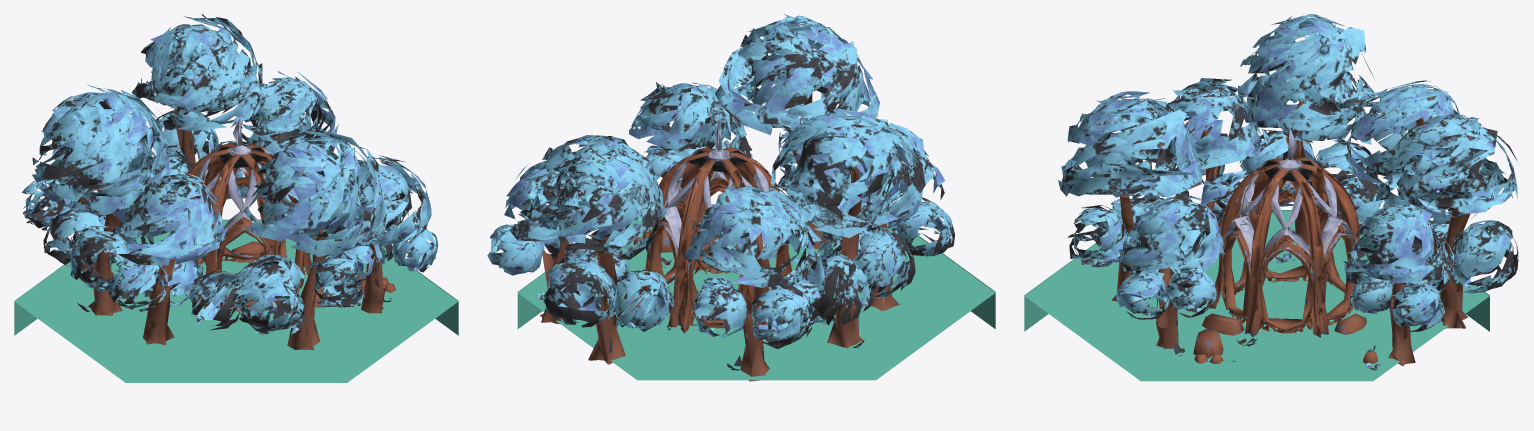
File: enid-kingdom.glb
The picture shows the model from 3 angles, left to right: view 1: azimuth 30°, elevation 25°; view 2: azimuth 150°, elevation 25°; view 3: azimuth 270°, elevation 25°; orthographic projection. The views are drawn at different scales.
Visible parts, largest first — view 1: world, hexBase; view 2: world, hexBase; view 3: world, hexBase.
Part boxes in pixels (box(x1,y1,x2,y2)): world: box(22, 14, 438, 350); hexBase: box(14, 219, 458, 382); world: box(487, 14, 954, 381); hexBase: box(517, 204, 995, 380); world: box(1058, 14, 1518, 371); hexBase: box(1024, 210, 1489, 381).
Bounding box in the file's own units: 1.03 × 0.6995 × 1.23.
3 materials, 1 textured.
